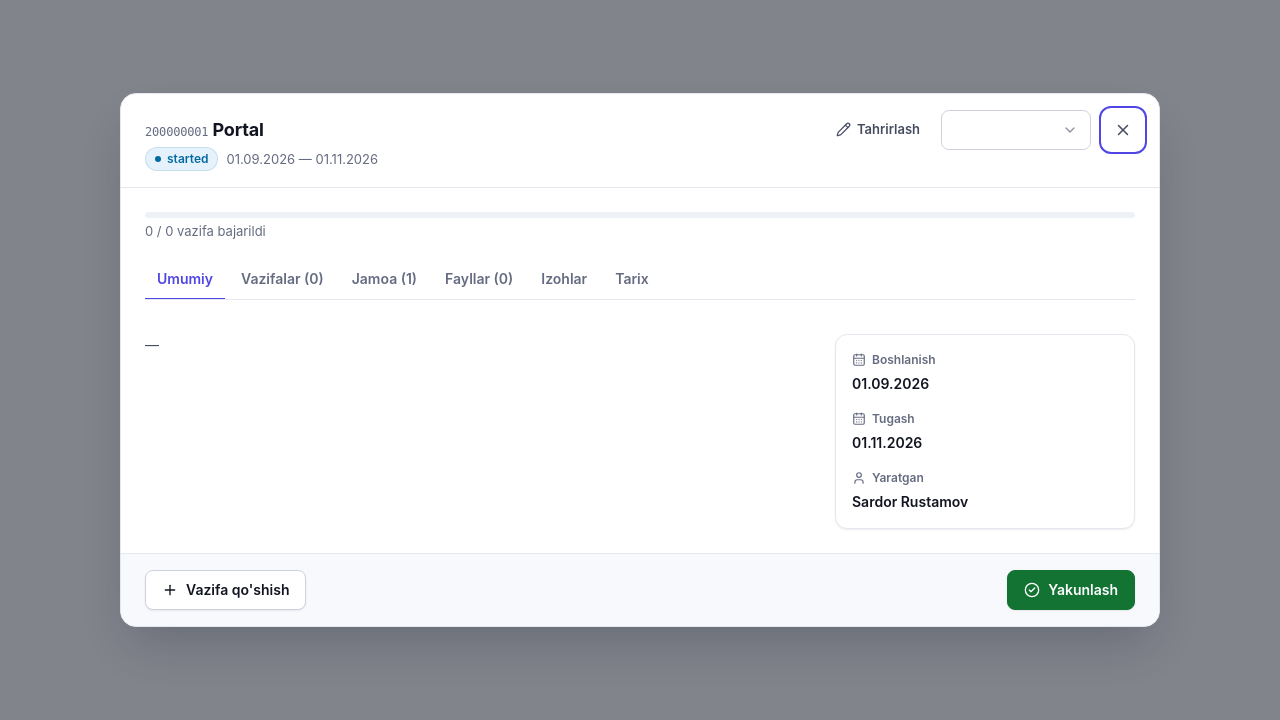
Test: ProjectModal — Jamoa › jamoa saqlanmaguncha vazifa berish tugmasi o'chiq
The image size is (1280, 720).
Click the tab "Jamoa (1)" at (384, 280), box [340,260,429,300]
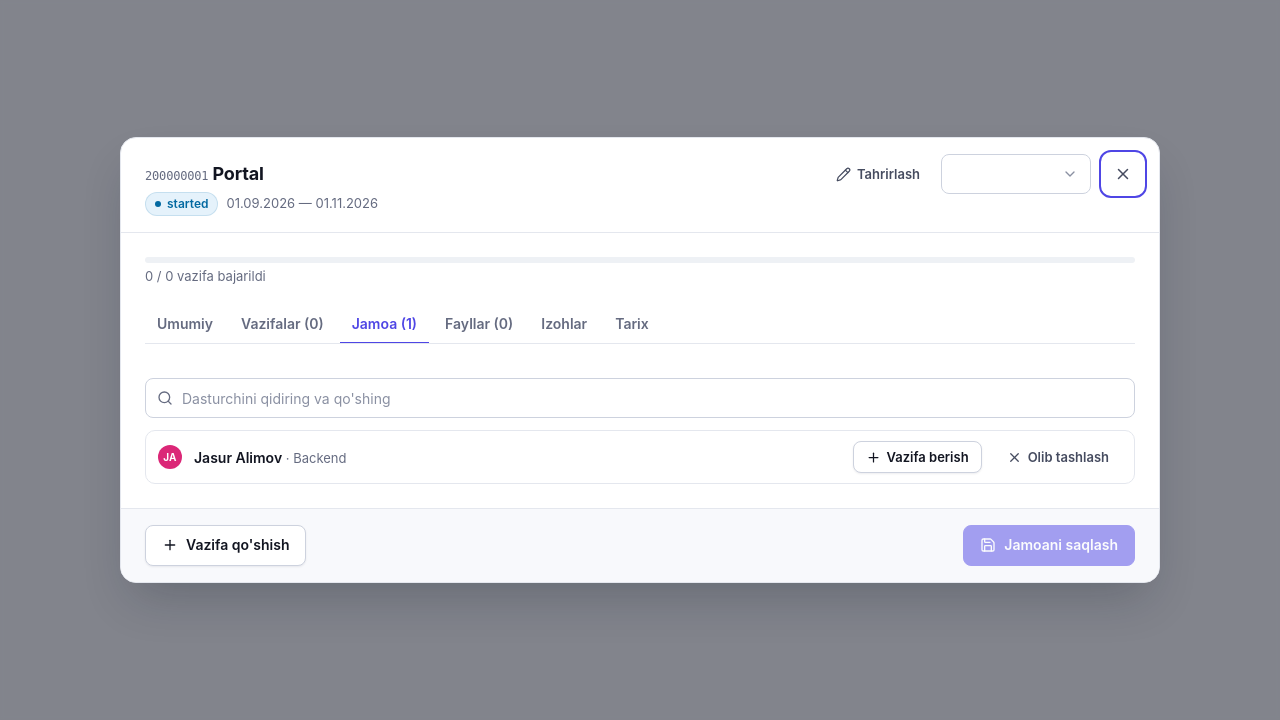
Expected: the button "Vazifa berish" is enabled, [853,441,982,473]
Type "mal" into the field labelled "Dasturchini qidiring va qo'shing" at (640, 398), box [145,378,1135,418]
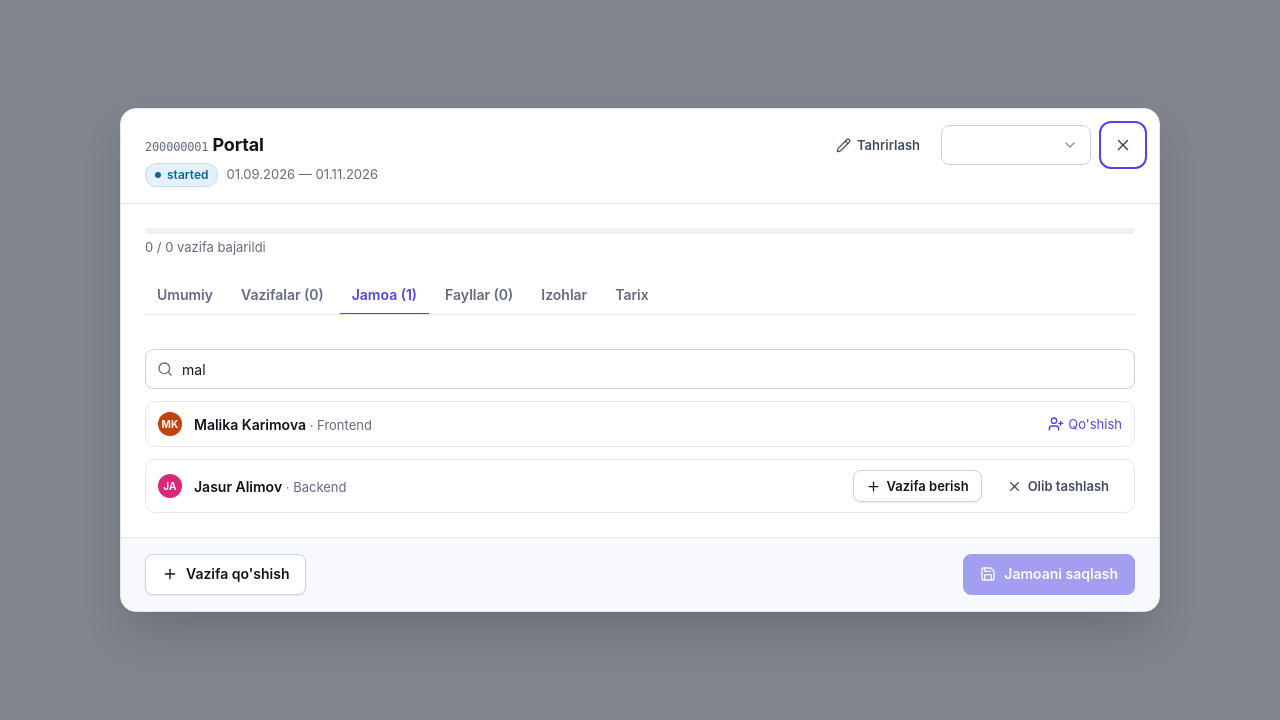
Click the button "MK Malika Karimova · Frontend Qo'shish" at (250, 424), box [145,401,1135,447]
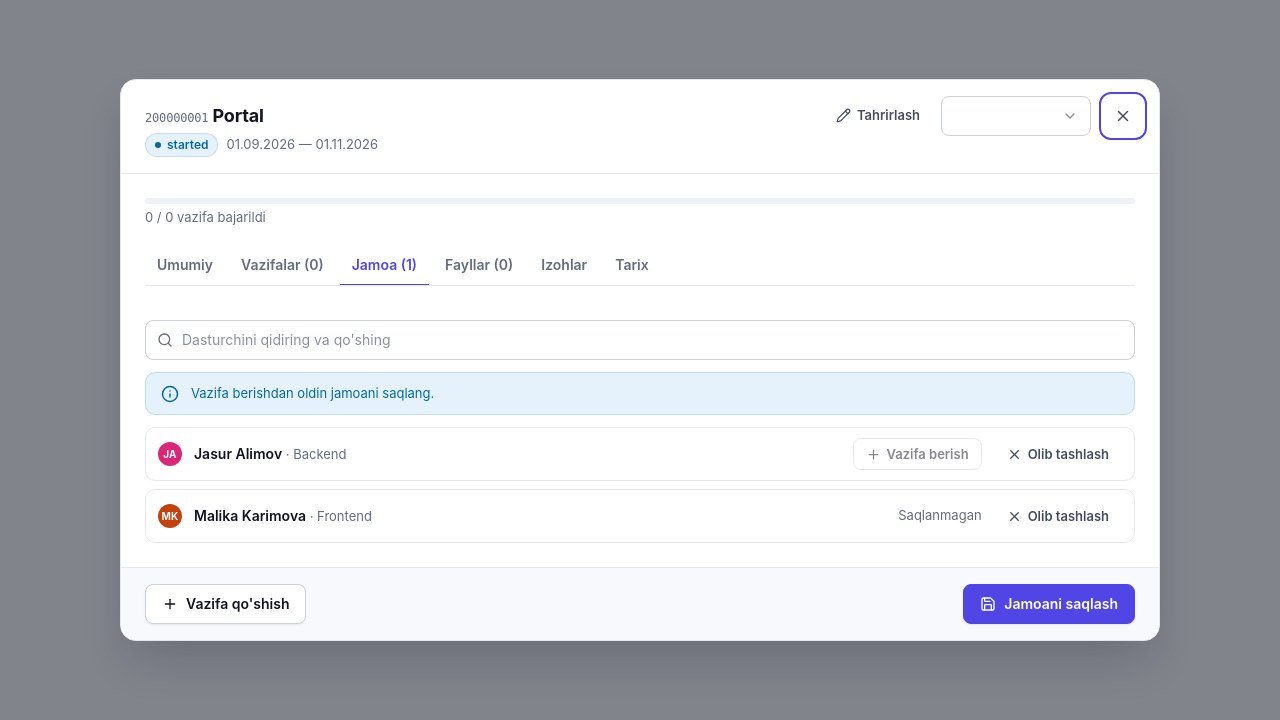
Expected: the text "Vazifa berishdan oldin jamoani saqlang." is shown, [191,384,434,403]
Expected: the button "Vazifa berish" is disabled, [853,438,982,470]
